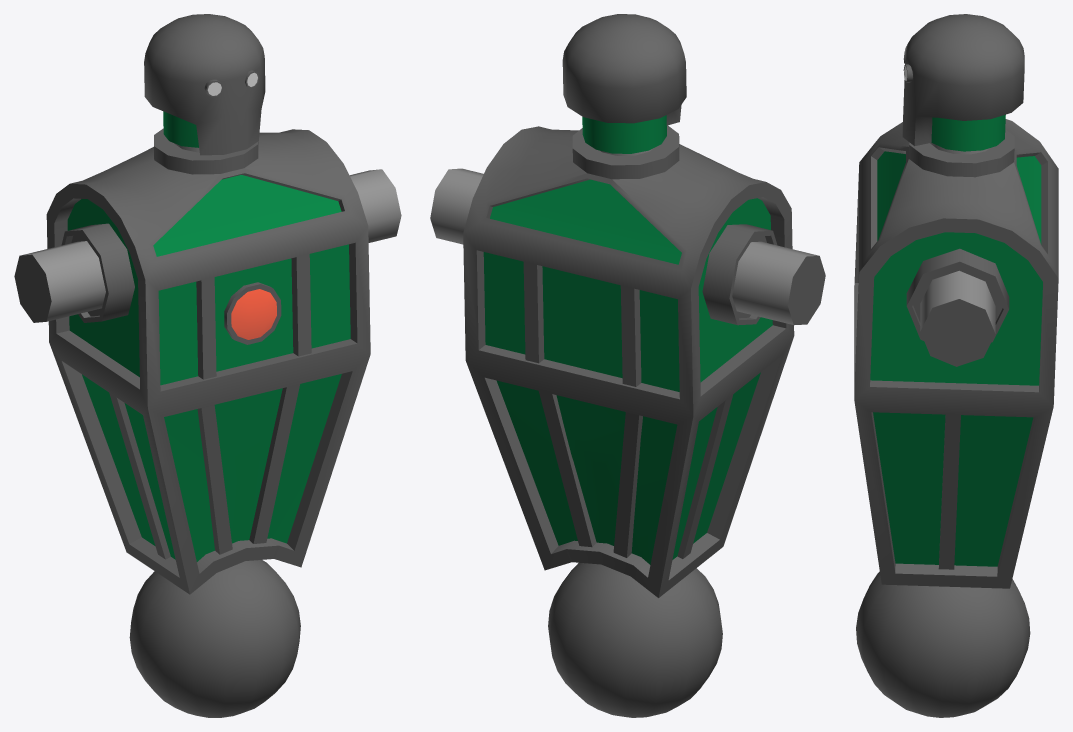
The model's file is perso_backward.fbx.
3 views of the same model, side by side, from view 1: azimuth 30°, elevation 25°; view 2: azimuth 150°, elevation 25°; view 3: azimuth 270°, elevation 25° (orthographic). The views are drawn at different scales.
Visible parts, largest first — view 1: body, Locomotion, head, bars; view 2: body, Locomotion, head, bars; view 3: body, Locomotion, head, bars.
Part boxes in pixels (left/top/right/bottom): body: left=14, top=128, right=401, bottom=594; Locomotion: left=129, top=560, right=300, bottom=717; head: left=144, top=14, right=265, bottom=155; bars: left=109, top=254, right=311, bottom=559; body: left=430, top=125, right=825, bottom=597; Locomotion: left=548, top=562, right=722, bottom=717; head: left=562, top=14, right=686, bottom=153; bars: left=523, top=262, right=733, bottom=558; body: left=854, top=119, right=1058, bottom=588; Locomotion: left=856, top=571, right=1030, bottom=717; head: left=902, top=14, right=1024, bottom=151; bars: left=938, top=414, right=960, bottom=569.
Bounding box in the file's own units: 3.18 × 5.92 × 1.59.
